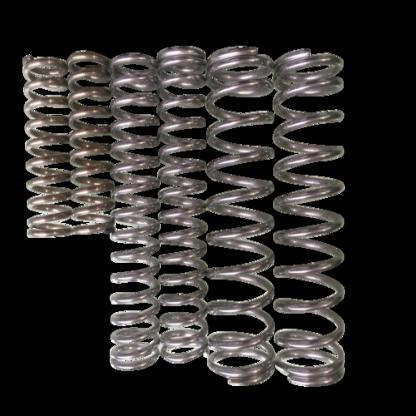FOD: (204, 44, 277, 388), (276, 48, 348, 390), (108, 53, 160, 375), (157, 47, 208, 365), (22, 51, 70, 243), (67, 50, 114, 236)
